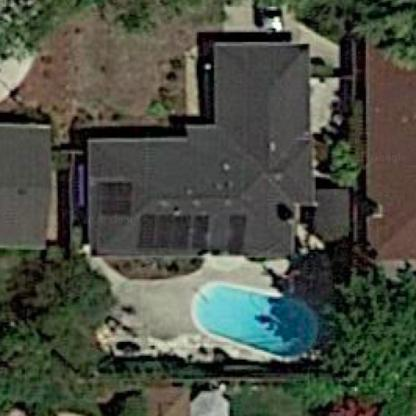car: (247, 1, 292, 37)
solar_panel: (135, 208, 213, 251), (90, 171, 136, 221)
swimming_pool: (181, 267, 328, 372)
